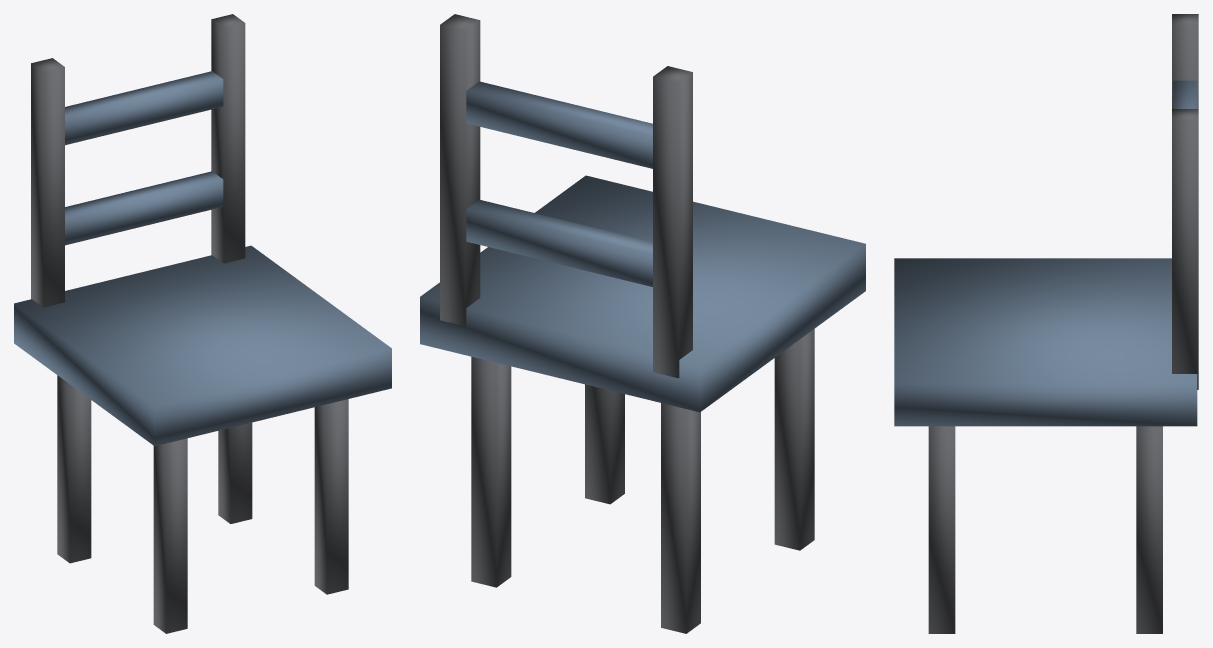
File: station_bench.glb
The picture shows the model from 3 angles, left to right: view 1: azimuth 30°, elevation 25°; view 2: azimuth 150°, elevation 25°; view 3: azimuth 270°, elevation 25°; orthographic projection. The views are drawn at different scales.
Parts seen in each view (by area): view 1: world; view 2: world; view 3: world.
Boxes of the visible parts, x1,y1,x2,y2 form: world: [14, 14, 391, 633]; world: [420, 14, 865, 633]; world: [894, 14, 1198, 633].
Bounding box in the file's own units: 0.4959 × 0.9614 × 0.5112.
